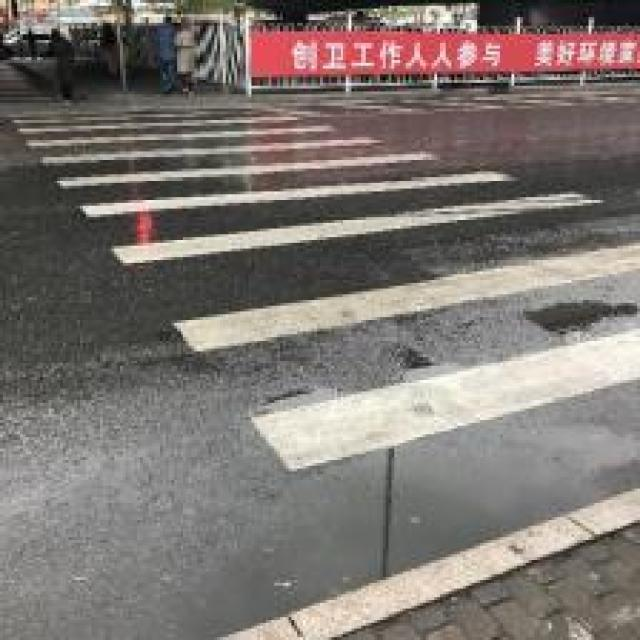walk-crossing: (49, 117, 620, 469)
